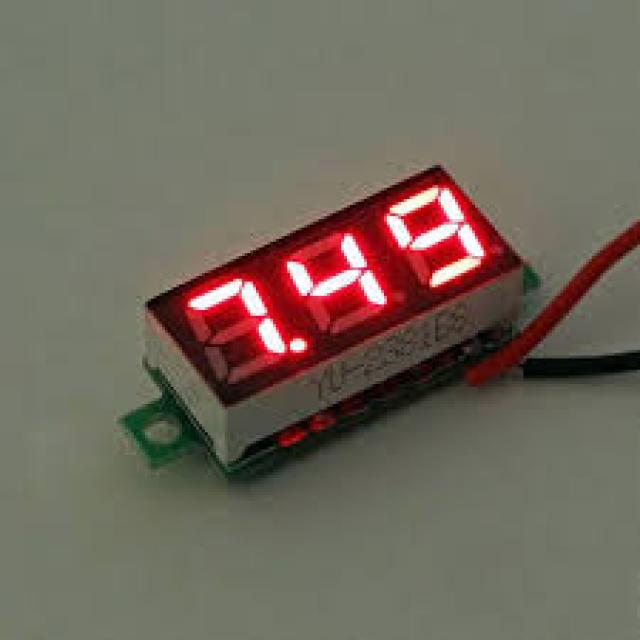.: (290, 332, 309, 354)
4: (282, 232, 390, 310)
7: (188, 273, 295, 365)
9: (383, 181, 488, 289)
screen: (142, 161, 528, 412)
